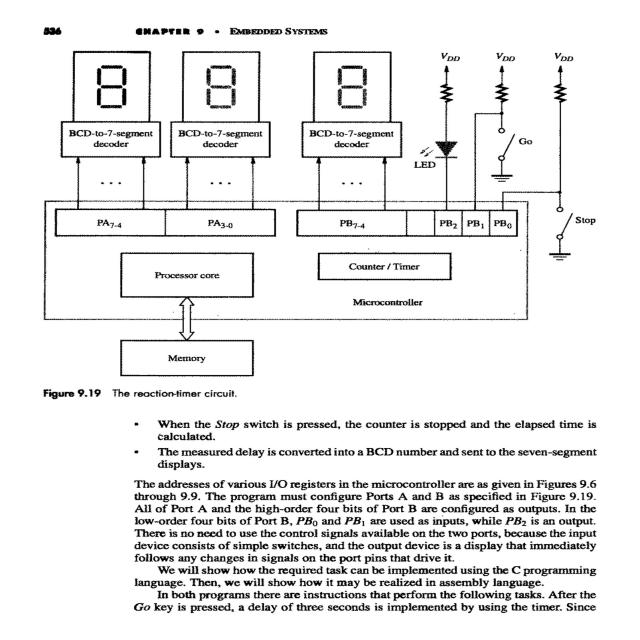diagram: (28, 38, 640, 400)
